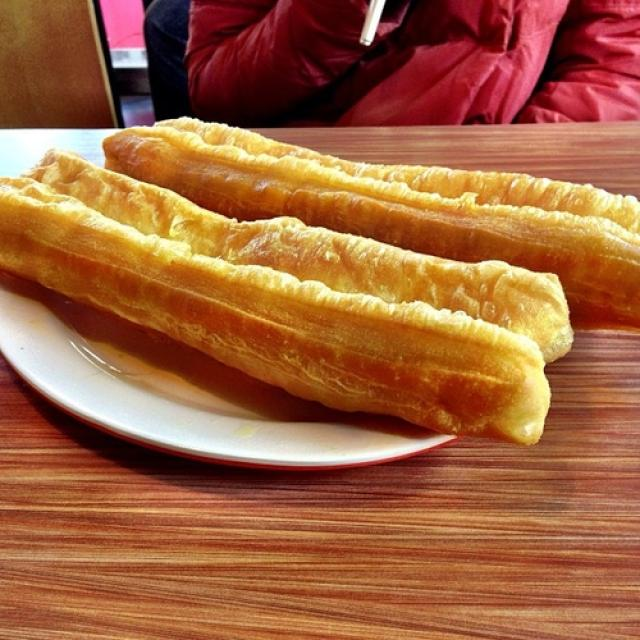炸货点心: (5, 114, 634, 485)
